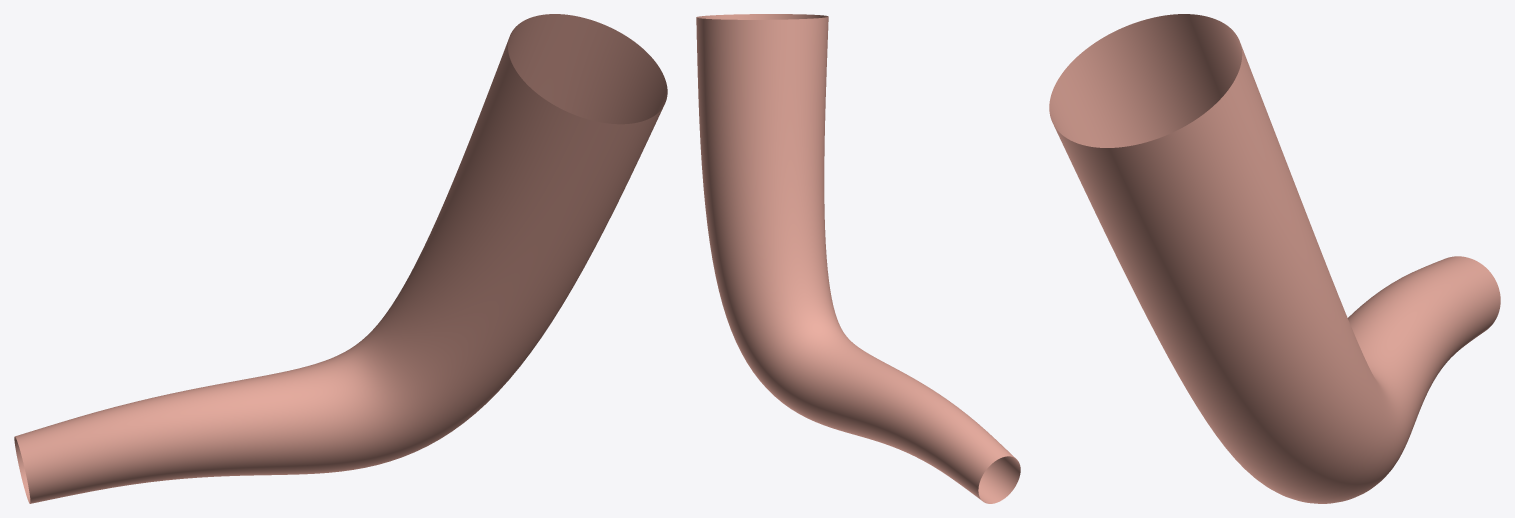
Rendered from Trompa de Falopio Izquierda.fbx.
3 renders of one model, left to right at view 1: azimuth 30°, elevation 25°; view 2: azimuth 150°, elevation 25°; view 3: azimuth 270°, elevation 25°, orthographic. The views are drawn at different scales.
Parts seen in each view (by area): view 1: BezierCurve_002; view 2: BezierCurve_002; view 3: BezierCurve_002.
Part boxes in pixels (box(x1,y1,x2,y2)): BezierCurve_002: box(14, 14, 667, 503); BezierCurve_002: box(696, 14, 1020, 503); BezierCurve_002: box(1049, 14, 1500, 503).
Size of the model in its own units: 7.04 by 5.86 by 4.41.
